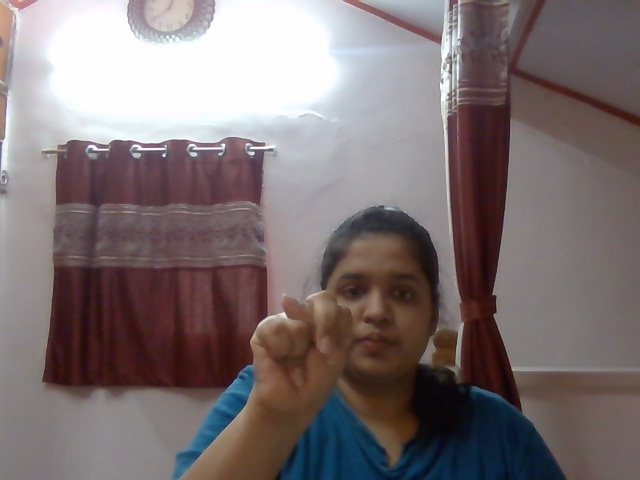n: (243, 285, 369, 420)
